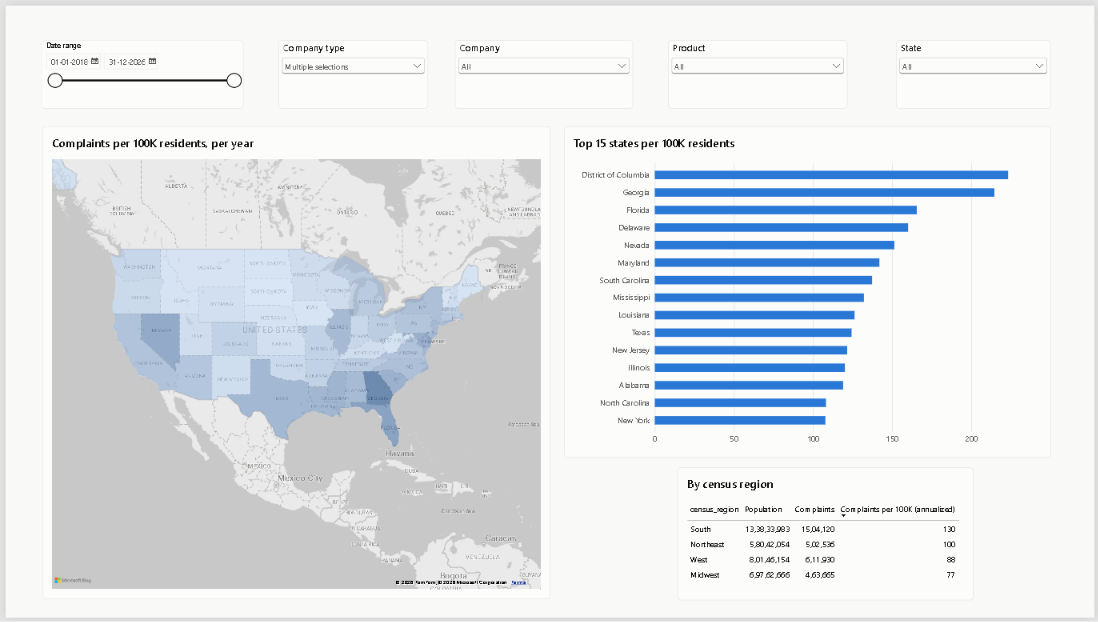

Layout of this report page (visuals, bound fields, positions):
{"tool":"powerbi","page":{"name":"Geographic View","canvas":[1920,1080],"ordinal":3},"visuals":[{"type":"slicer","fields":{"Values":["dim_date.date"]},"box":[63.8,61.5,356.8,120.5],"z":0},{"type":"slicer","fields":{"Values":["dim_company.company_type"]},"box":[482,61.5,263.6,120.5],"z":1000},{"type":"slicer","fields":{"Values":["dim_company.company_name"]},"box":[793.4,61.5,313.6,120.5],"z":2000},{"type":"slicer","fields":{"Values":["dim_product.product_group"]},"box":[1168.4,61.5,315.9,120.5],"z":3000},{"type":"slicer","fields":{"Values":["dim_geography.state_name"]},"box":[1570.7,61.5,272.7,120.5],"z":4000},{"type":"filledMap","title":"Complaints per 100K residents, per year","fields":{"Category":["dim_geography.state_name"]},"box":[64.7,213.7,896.1,833.3],"z":5000},{"type":"clusteredBarChart","title":"Top 15 states per 100K residents","fields":{"Category":["dim_geography.state_name"],"Y":["_Measures.Complaints per 100K (annualized)"]},"box":[984.3,213.7,858.8,584.3],"z":6000},{"type":"tableEx","title":"By census region","fields":{"Values":["dim_geography.census_region","_Measures.Population","_Measures.Complaints","_Measures.Complaints per 100K (annualized)"]},"box":[1186,814,522,234],"z":7000}]}

Visuals, with their boxes in screenshot pixels (x1, y1, x2, y2), scaled from the page's 1920x1080 canvas onto the 1098x622 screenshot:
slicer - dim_date.date: [x1=36, y1=35, x2=241, y2=105]
slicer - dim_company.company_type: [x1=276, y1=35, x2=426, y2=105]
slicer - dim_company.company_name: [x1=454, y1=35, x2=633, y2=105]
slicer - dim_product.product_group: [x1=668, y1=35, x2=849, y2=105]
slicer - dim_geography.state_name: [x1=898, y1=35, x2=1054, y2=105]
"Complaints per 100K residents, per year" filledMap: [x1=37, y1=123, x2=549, y2=603]
"Top 15 states per 100K residents" clusteredBarChart: [x1=563, y1=123, x2=1054, y2=460]
"By census region" tableEx: [x1=678, y1=469, x2=977, y2=604]
